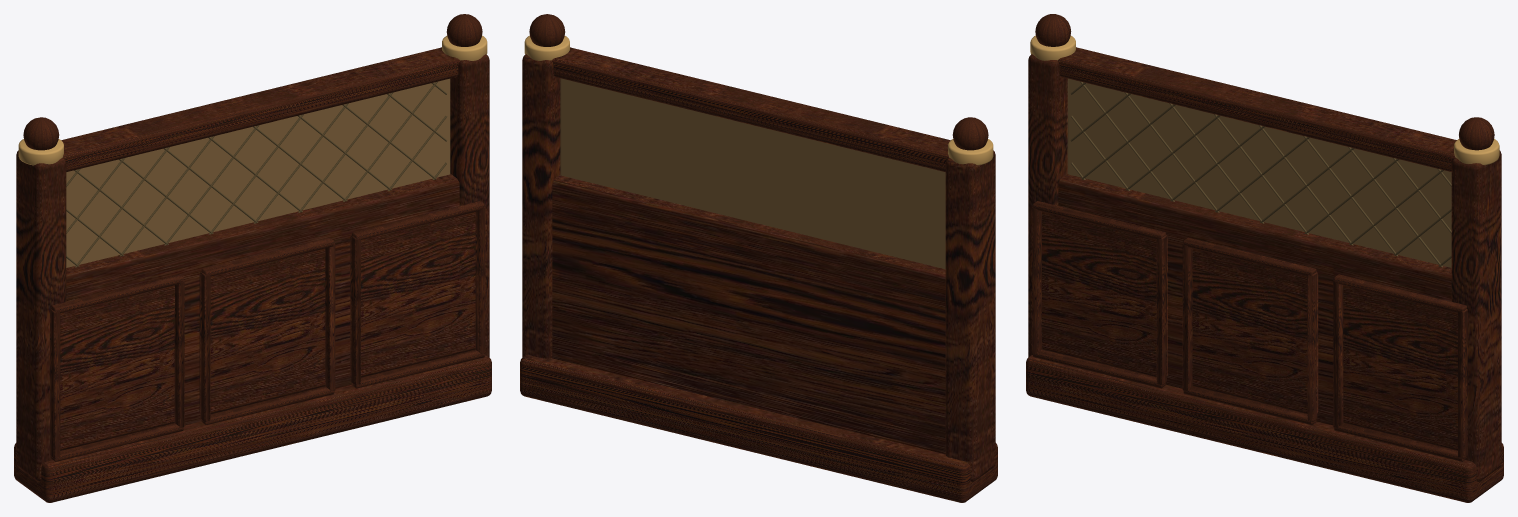
The model's file is snug-divider.glb.
3 renders of one model, left to right at view 1: azimuth 30°, elevation 25°; view 2: azimuth 150°, elevation 25°; view 3: azimuth 330°, elevation 25°, orthographic.
Parts seen in each view (by area): view 1: snug-divider; view 2: snug-divider; view 3: snug-divider.
Boxes of the visible parts, x1=… form: snug-divider: x1=14, y1=14, x2=491, y2=502; snug-divider: x1=520, y1=14, x2=997, y2=502; snug-divider: x1=1026, y1=14, x2=1503, y2=502.
Bounding box in the file's own units: 1.97 × 1.51 × 0.26.
Materials: 4 (1 with a texture image).
